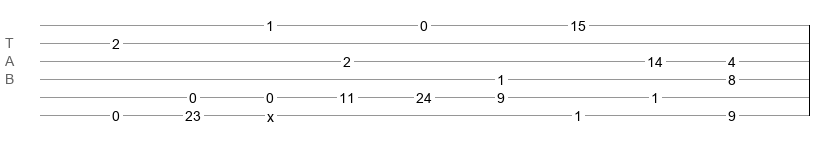0: (112, 108, 120, 118), (189, 90, 197, 100), (266, 90, 274, 100), (420, 18, 428, 28)
1: (266, 18, 274, 28), (497, 72, 505, 82), (574, 108, 582, 118), (651, 90, 659, 100)
11: (339, 90, 355, 100)
14: (647, 54, 663, 64)
15: (570, 18, 586, 28)
2: (112, 36, 120, 46), (343, 54, 351, 64)
23: (185, 108, 201, 118)
24: (416, 90, 432, 100)
4: (728, 54, 736, 64)
8: (728, 72, 736, 82)
9: (497, 90, 505, 100), (728, 108, 736, 118)
x: (267, 109, 274, 117)
